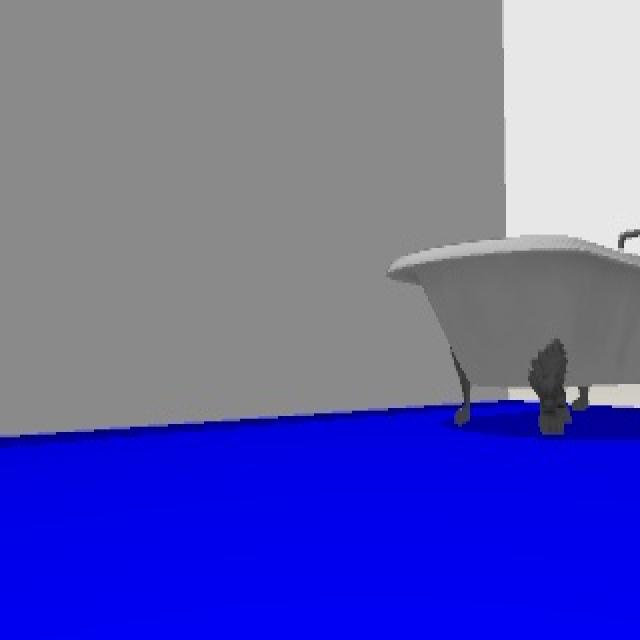bathtub: (385, 180, 640, 438)
